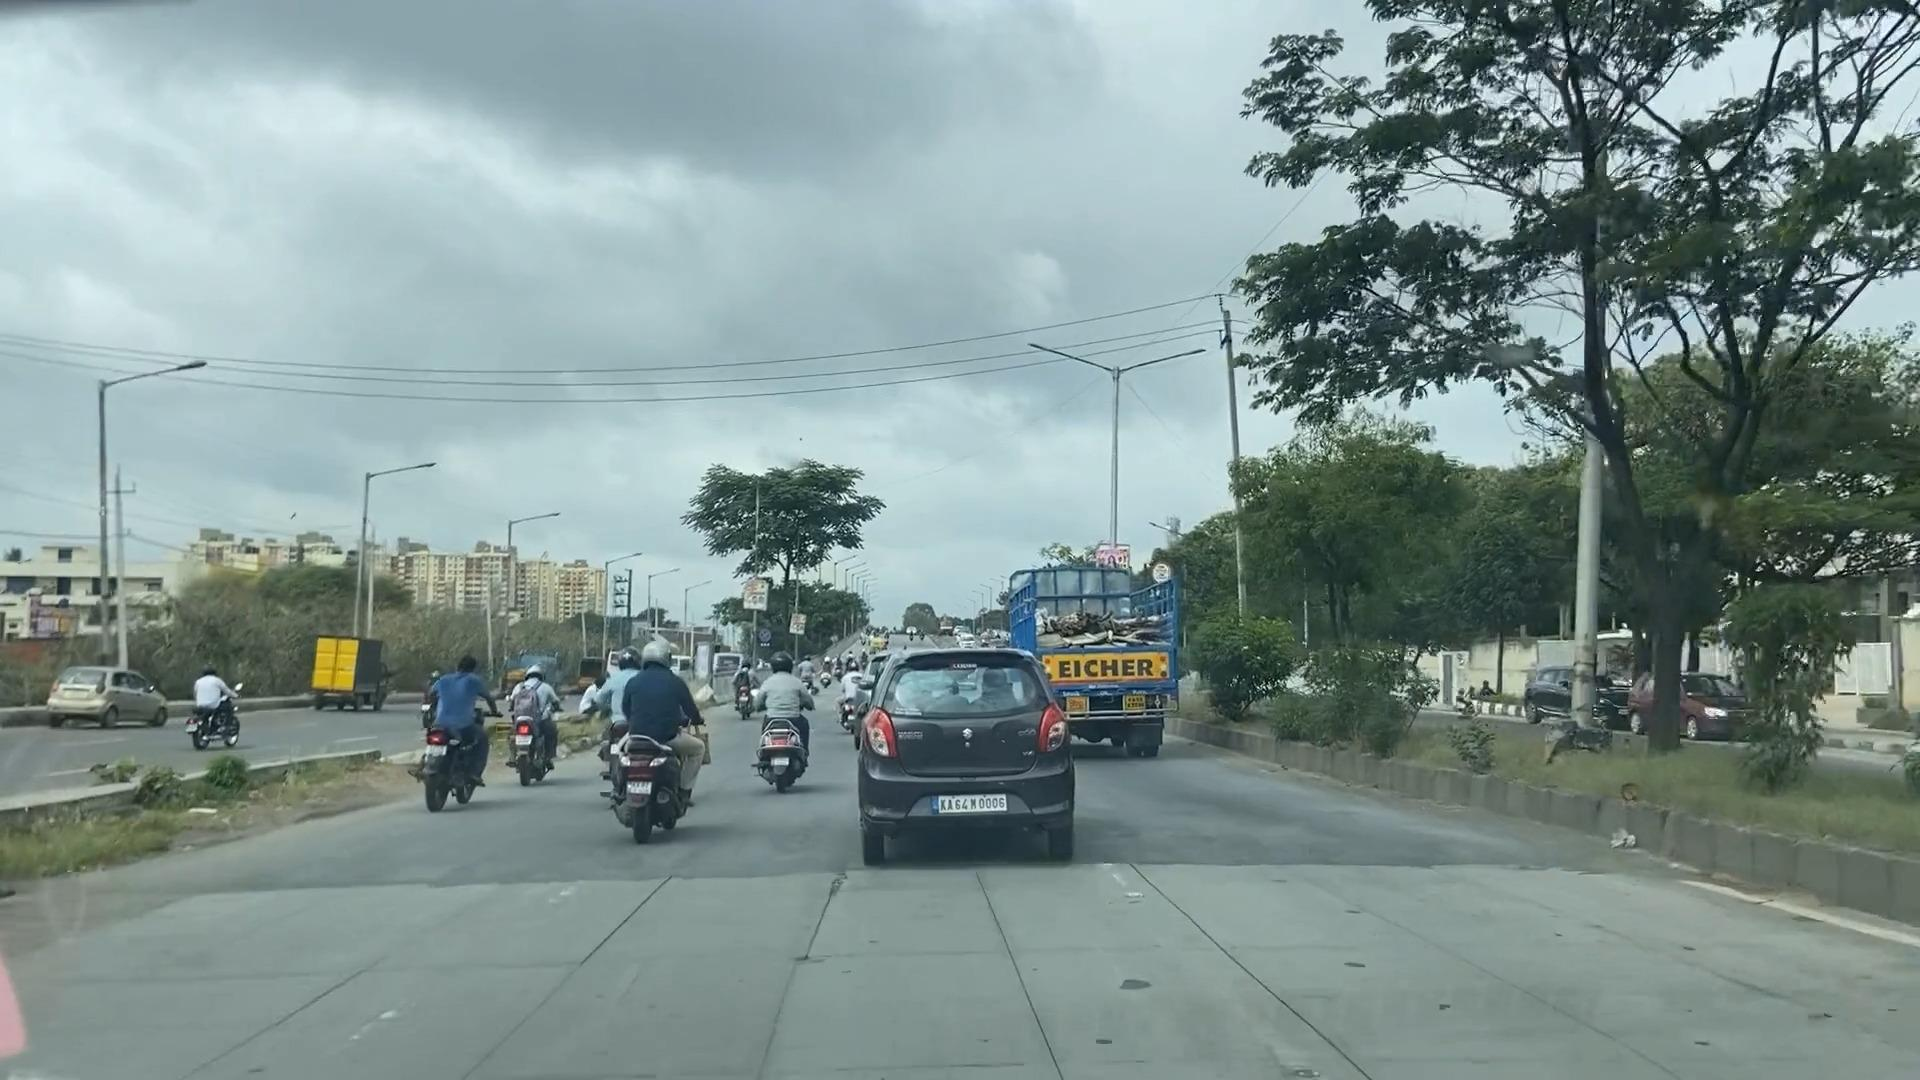LMV: (880, 650, 1069, 881), (607, 646, 690, 831), (508, 659, 560, 791), (434, 657, 481, 802), (757, 657, 796, 785)
